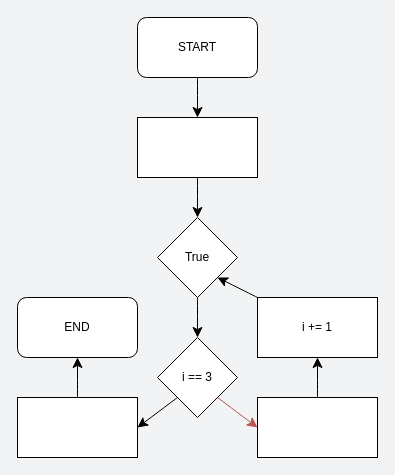
Image size: 395x475. Some labels were removed from this diagram. The shapes that lost their labels are listed below. From the top down, each one's centre as x and y in pixels, then its label:
At (x=197, y=147): "i = 0".
At (x=77, y=427): "break".
At (x=317, y=427): "print(i)".
